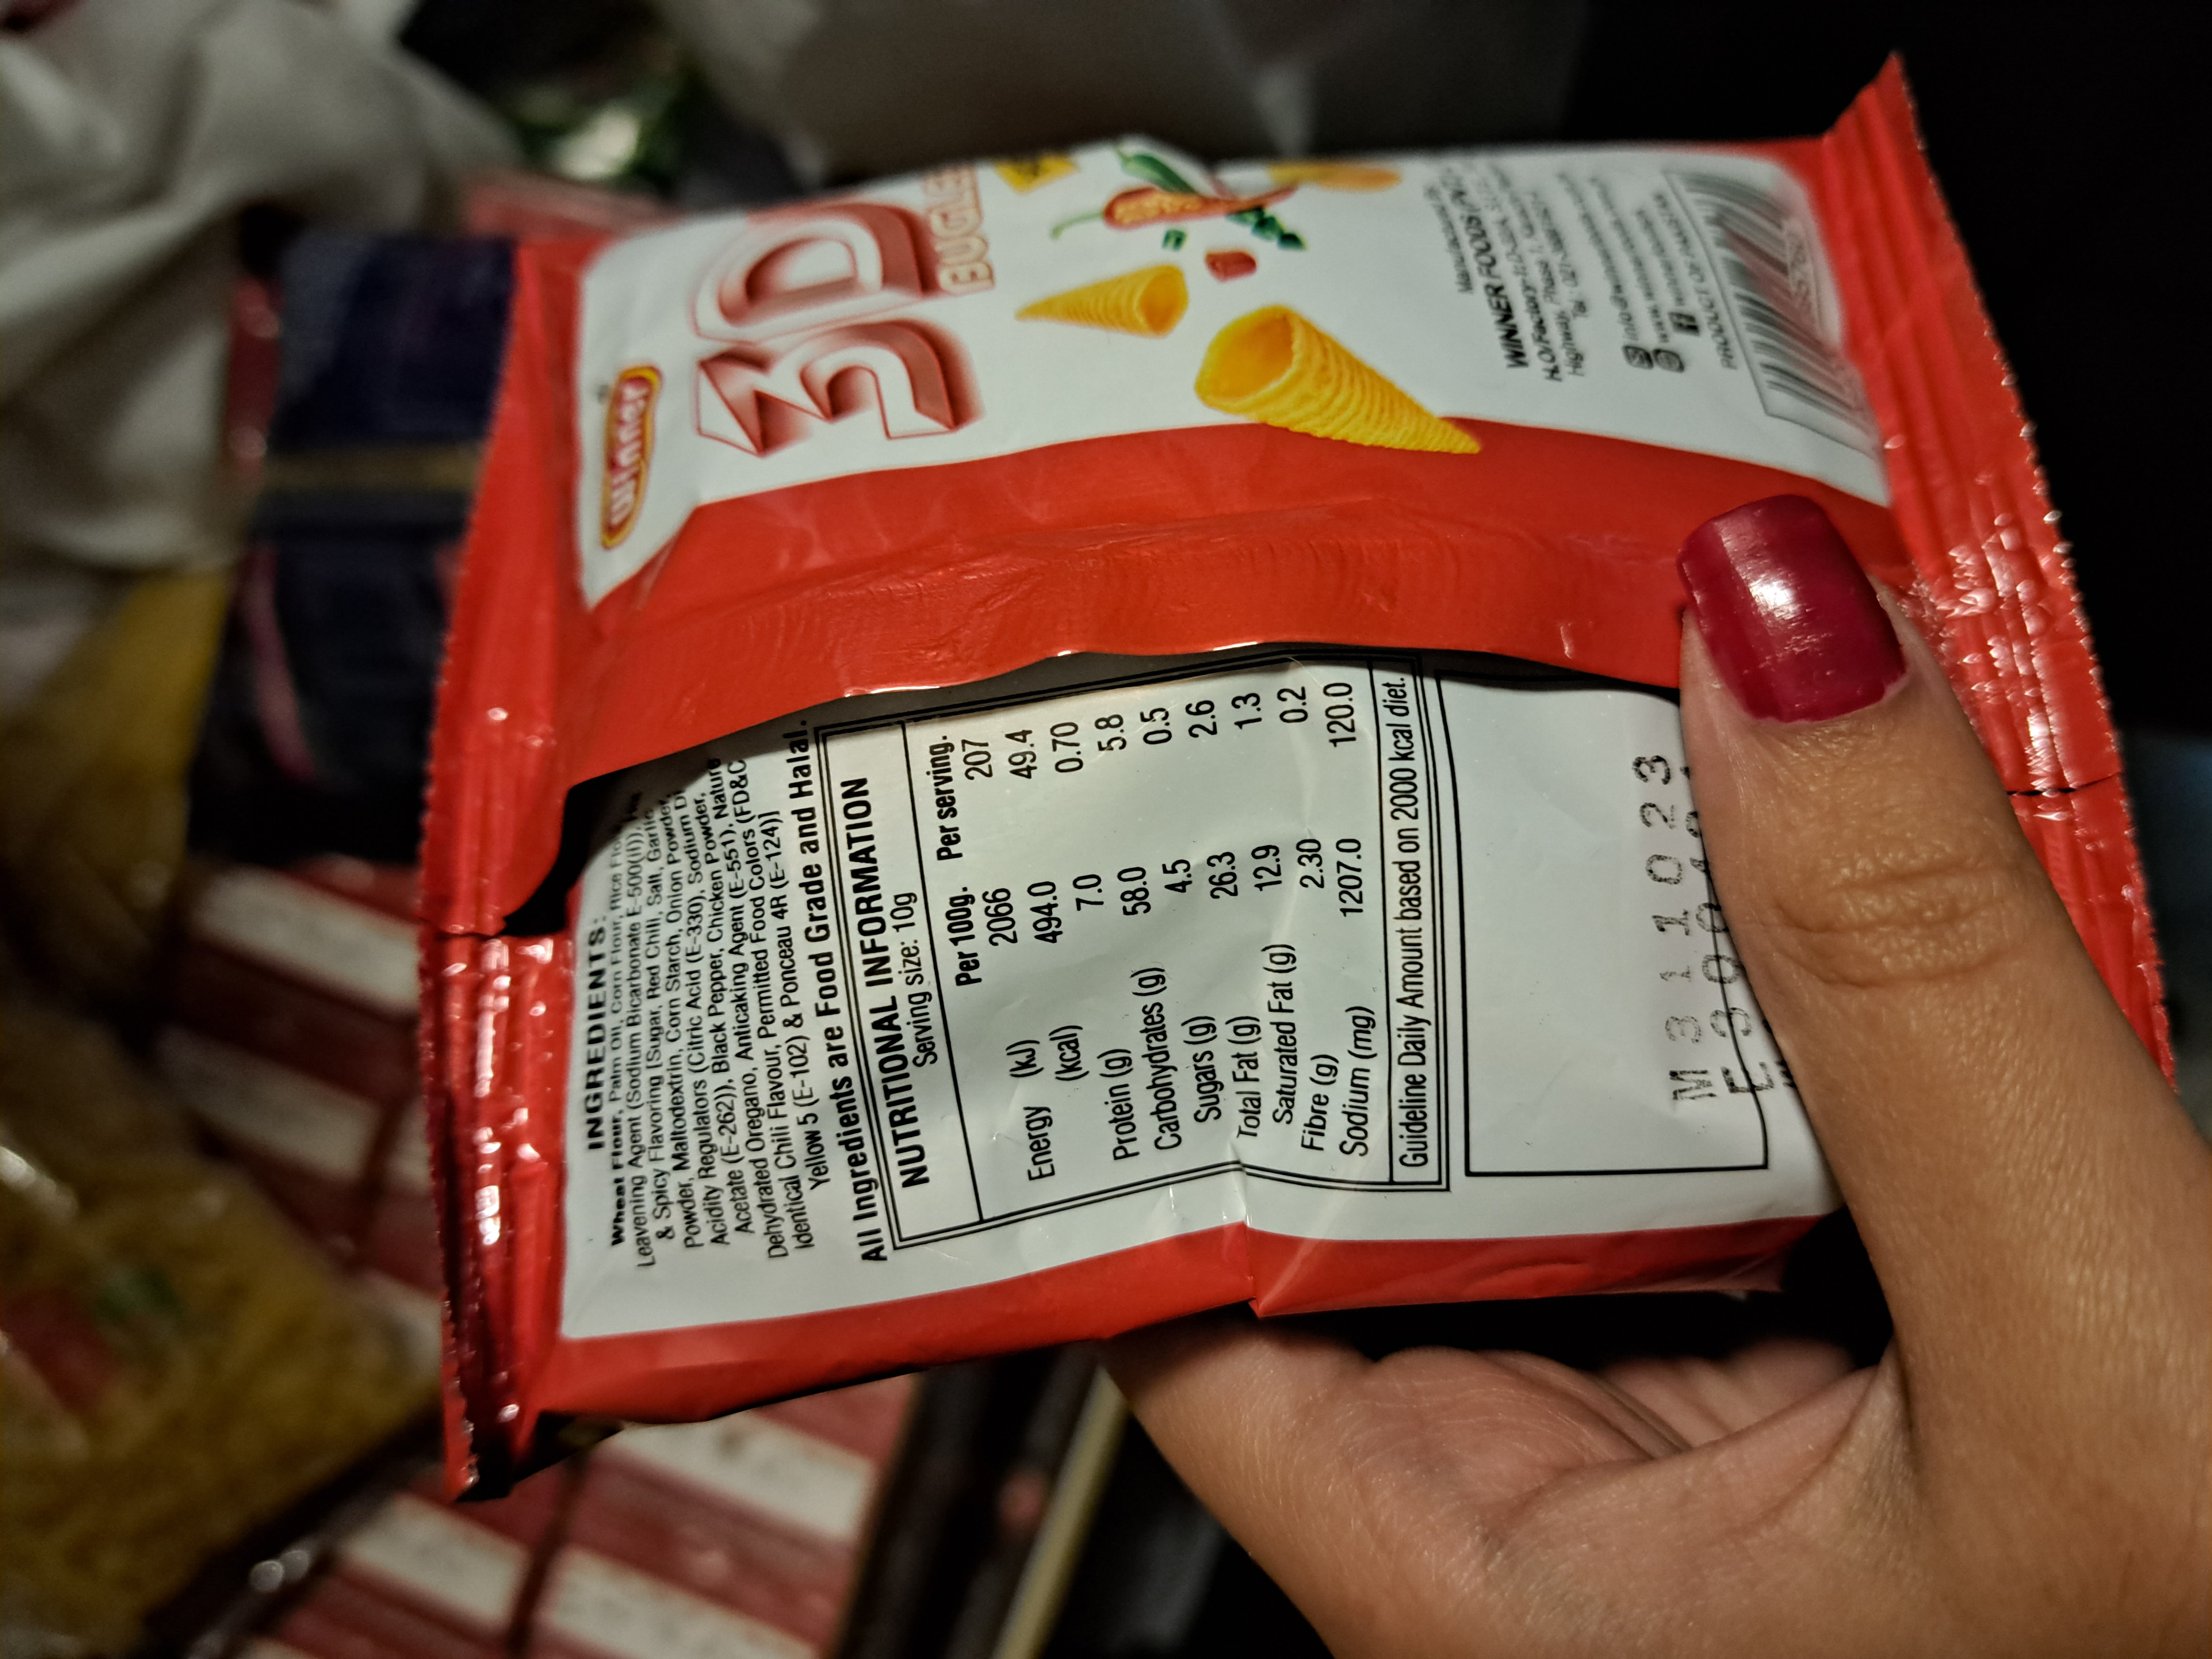table: (813, 648, 1425, 1293)
